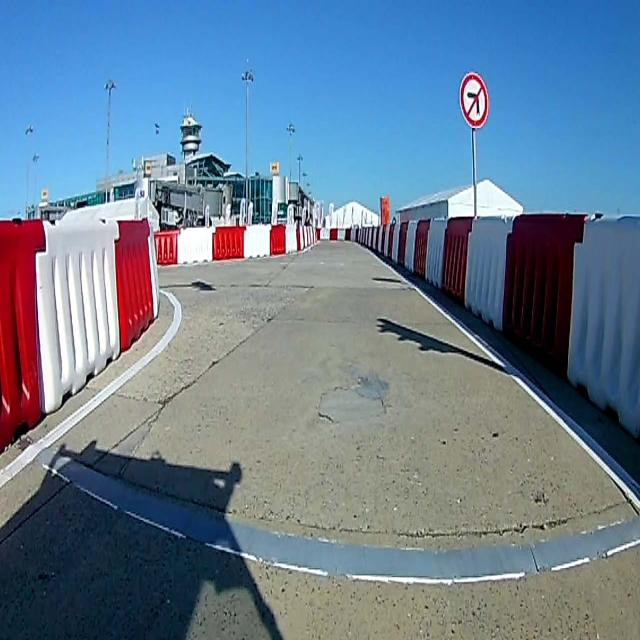soladonulmez: (459, 74, 488, 126)
